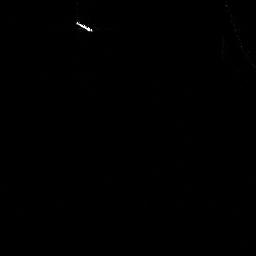ship: (75, 20, 93, 34)
